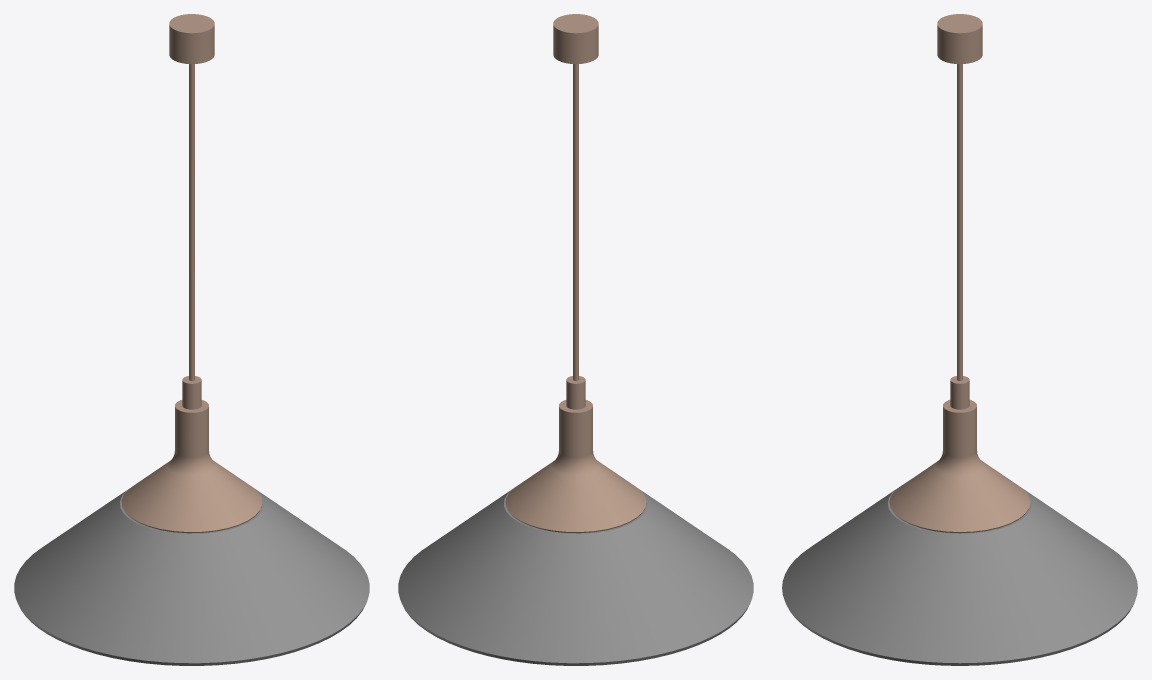
Rendered from light.glb.
3 views of the same model, side by side, from view 1: azimuth 30°, elevation 25°; view 2: azimuth 150°, elevation 25°; view 3: azimuth 270°, elevation 25° (orthographic).
Visible parts, largest first — view 1: body; view 2: body; view 3: body.
Boxes of the visible parts, <box> form: body: <box>14,14,369,665</box>; body: <box>398,14,753,665</box>; body: <box>782,14,1137,665</box>.
Bounding box in the file's own units: 3.14 × 5.6 × 3.14.
